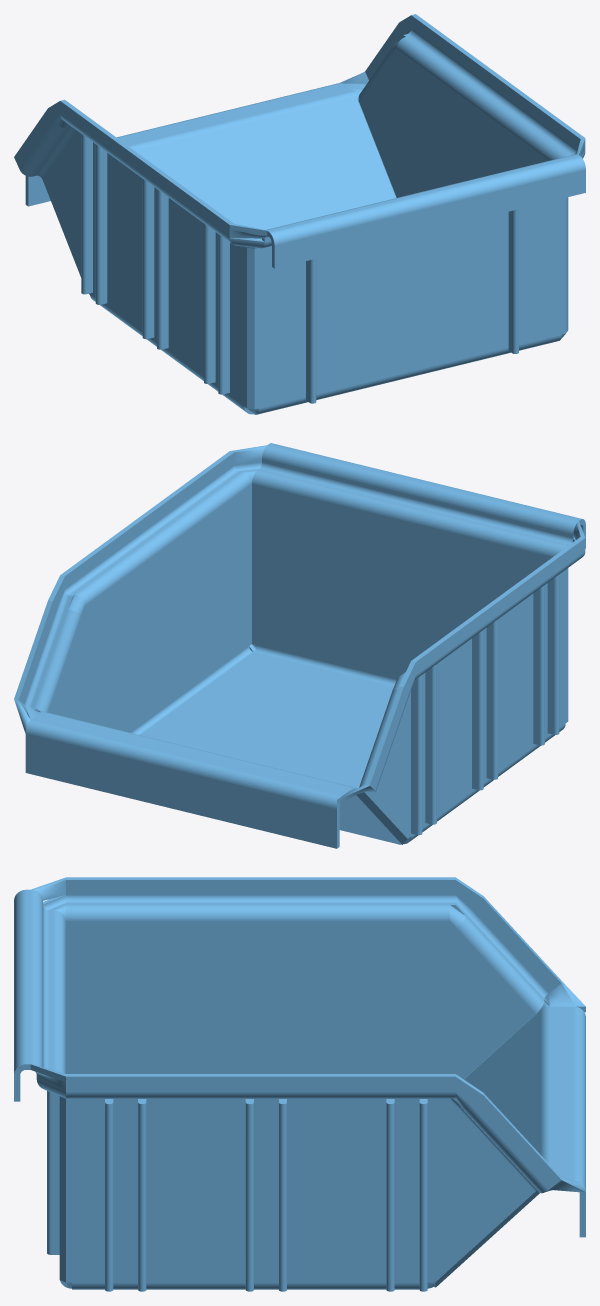
File: BacSmall.fbx
3 views of the same model, one above another, from view 1: azimuth 30°, elevation 25°; view 2: azimuth 150°, elevation 25°; view 3: azimuth 270°, elevation 25° (orthographic). The views are drawn at different scales.
Parts seen in each view (by area): view 1: BacSmall; view 2: BacSmall; view 3: BacSmall.
Part boxes in pixels (<box>): BacSmall: <box>14,14,585,414</box>; BacSmall: <box>14,443,585,848</box>; BacSmall: <box>14,877,585,1291</box>.
Bounding box in the file's own units: 11.4 × 6.05 × 13.82.
